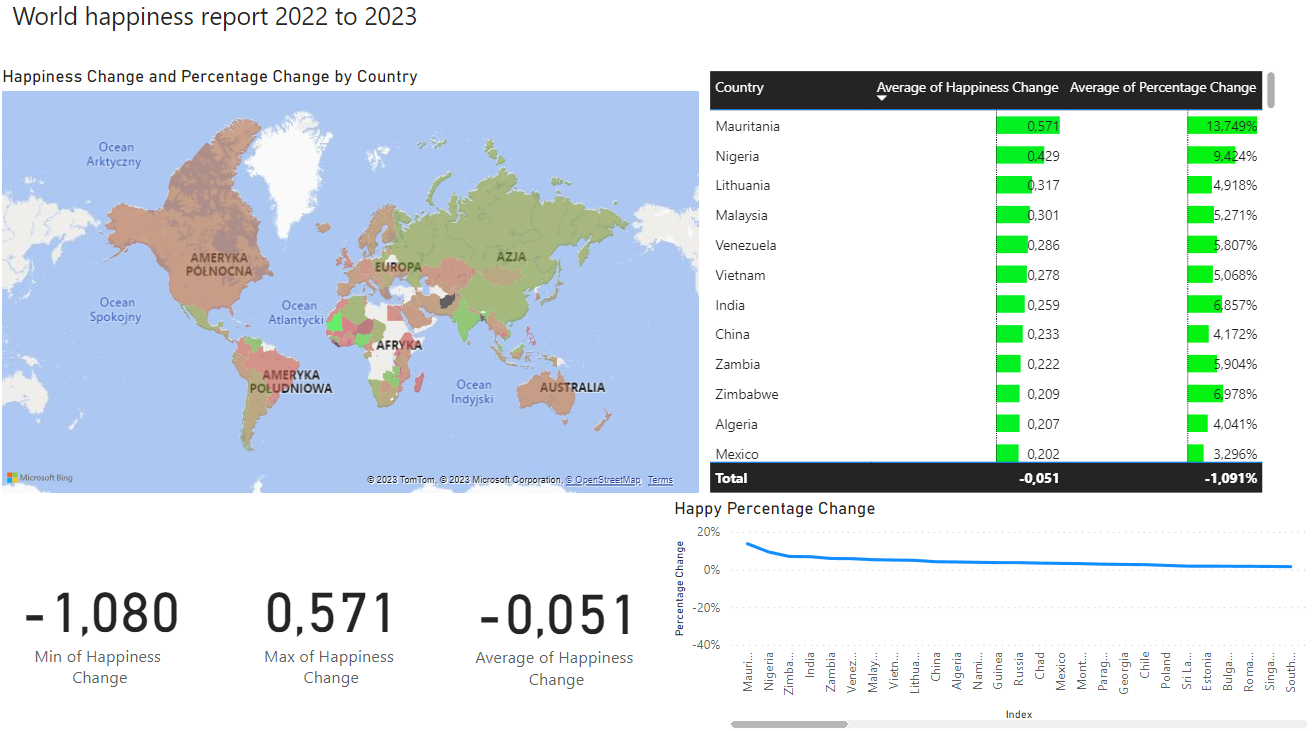

Layout of this report page (visuals, bound fields, positions):
{"tool":"powerbi","page":{"name":"Page 1","canvas":[1280,720],"ordinal":0},"visuals":[{"type":"filledMap","title":"Happiness Change and Percentage Change by Country","fields":{"Category":["WHR_changes.Country"]},"box":[0,71,687.7,420.2],"z":0},{"type":"tableEx","fields":{"Values":["WHR_changes.Country","Avg(WHR_changes.Happy_change)","Avg(WHR_changes.Percentage_change)"]},"box":[687.7,71,561.2,420.2],"z":1000},{"type":"textbox","box":[9.7,0,1270.3,71],"z":2000},{"type":"card","fields":{"Values":["Min(WHR_changes.Happy_change)"]},"box":[0,491.2,200.4,228.6],"z":2001},{"type":"card","fields":{"Values":["Max(WHR_changes.Happy_change)"]},"box":[228.6,491.2,192.6,228.6],"z":2002},{"type":"card","fields":{"Values":["Avg(WHR_changes.Happy_change)"]},"box":[434.8,495.1,218.8,224.7],"z":2003},{"type":"lineChart","title":"Happy Percentage Change","fields":{"Y":["Sum(WHR_changes.Percentage_change)"],"Category":["WHR_changes.Country"]},"box":[653.6,491.2,626.4,228.6],"z":2004}]}

Visuals, with their boxes in screenshot pixels (x1, y1, x2, y2), scaled from the page's 1280x720 canvas onto the 1312x731 screenshot:
"Happiness Change and Percentage Change by Country" filledMap: (0,72,705,499)
tableEx - WHR_changes.Country x Avg(WHR_changes.Happy_change): (705,72,1280,499)
textbox: (10,0,1311,72)
card - Min(WHR_changes.Happy_change): (0,499,205,730)
card - Max(WHR_changes.Happy_change): (234,499,432,730)
card - Avg(WHR_changes.Happy_change): (446,503,670,730)
"Happy Percentage Change" lineChart: (670,499,1311,730)
